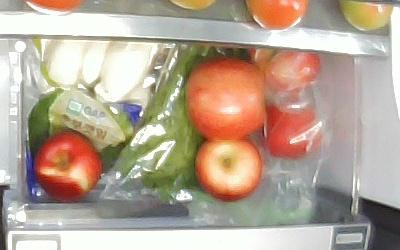apple: (187, 57, 266, 139), (34, 131, 102, 204), (196, 137, 263, 202)
apple_vinyl: (262, 96, 323, 160), (250, 47, 322, 92)
